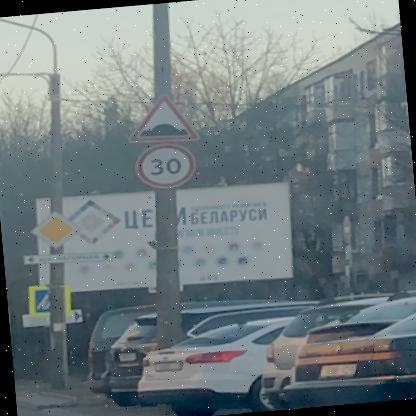crosswalk: (29, 285, 50, 312)
speedlimit: (132, 140, 194, 188)
